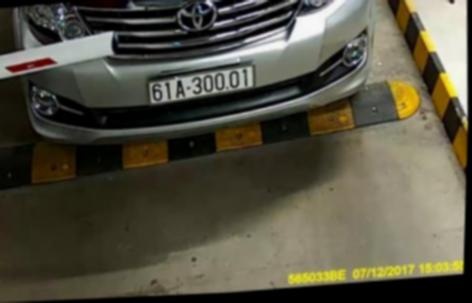License_Plate: (147, 61, 261, 107)
